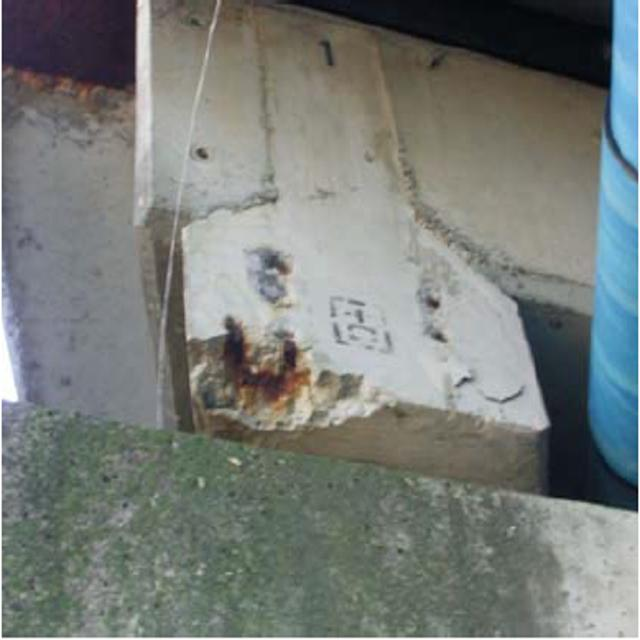spalling: (176, 303, 393, 456)
